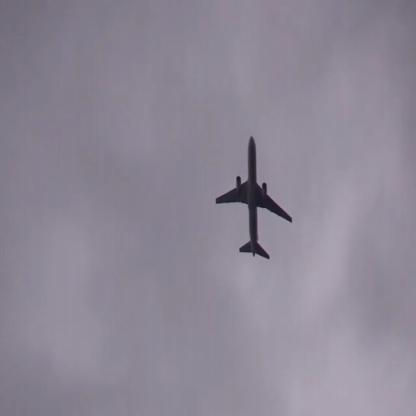CIV_Plane: (214, 135, 294, 257)
